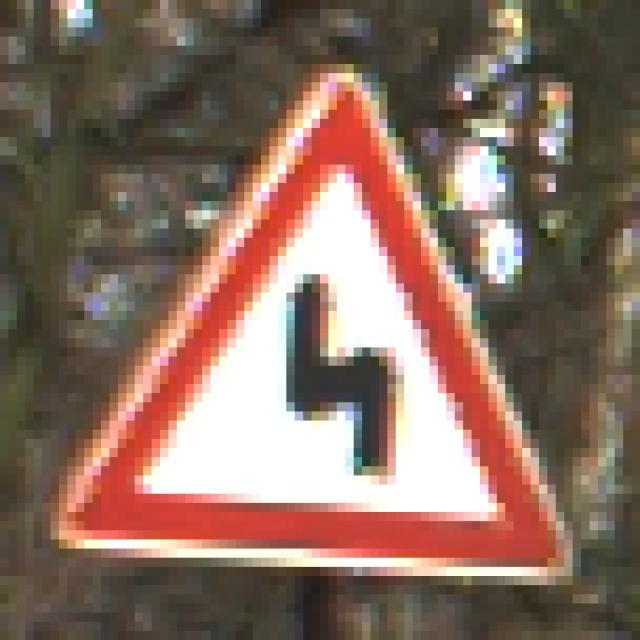left reverse bend: (44, 53, 581, 593)
